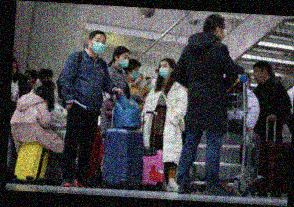with_mask: (90, 35, 107, 54), (157, 63, 171, 78), (117, 53, 130, 68), (40, 75, 53, 87), (130, 65, 140, 80)
without_mask: (252, 68, 263, 82), (220, 26, 227, 40), (12, 62, 18, 78)
